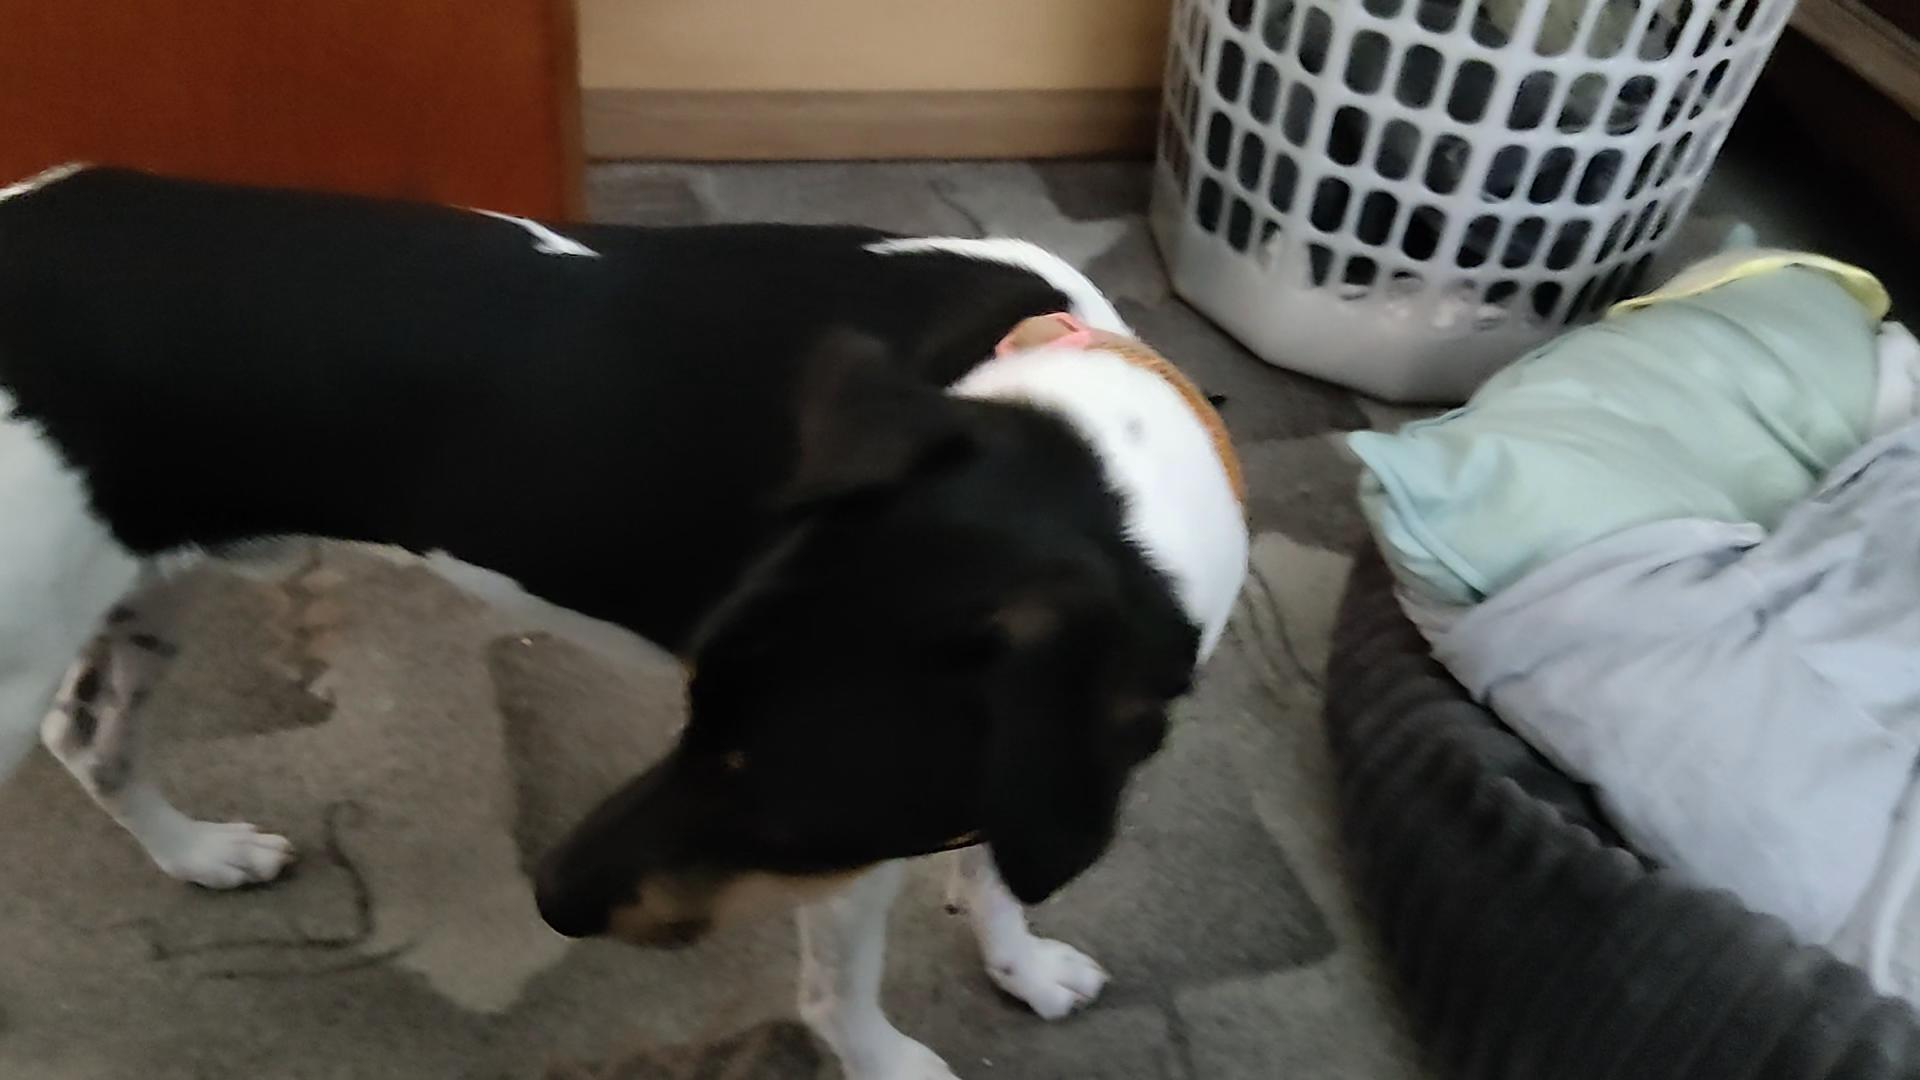Dog: (0, 156, 1266, 1079)
